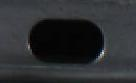holes: (26, 17, 108, 65)
